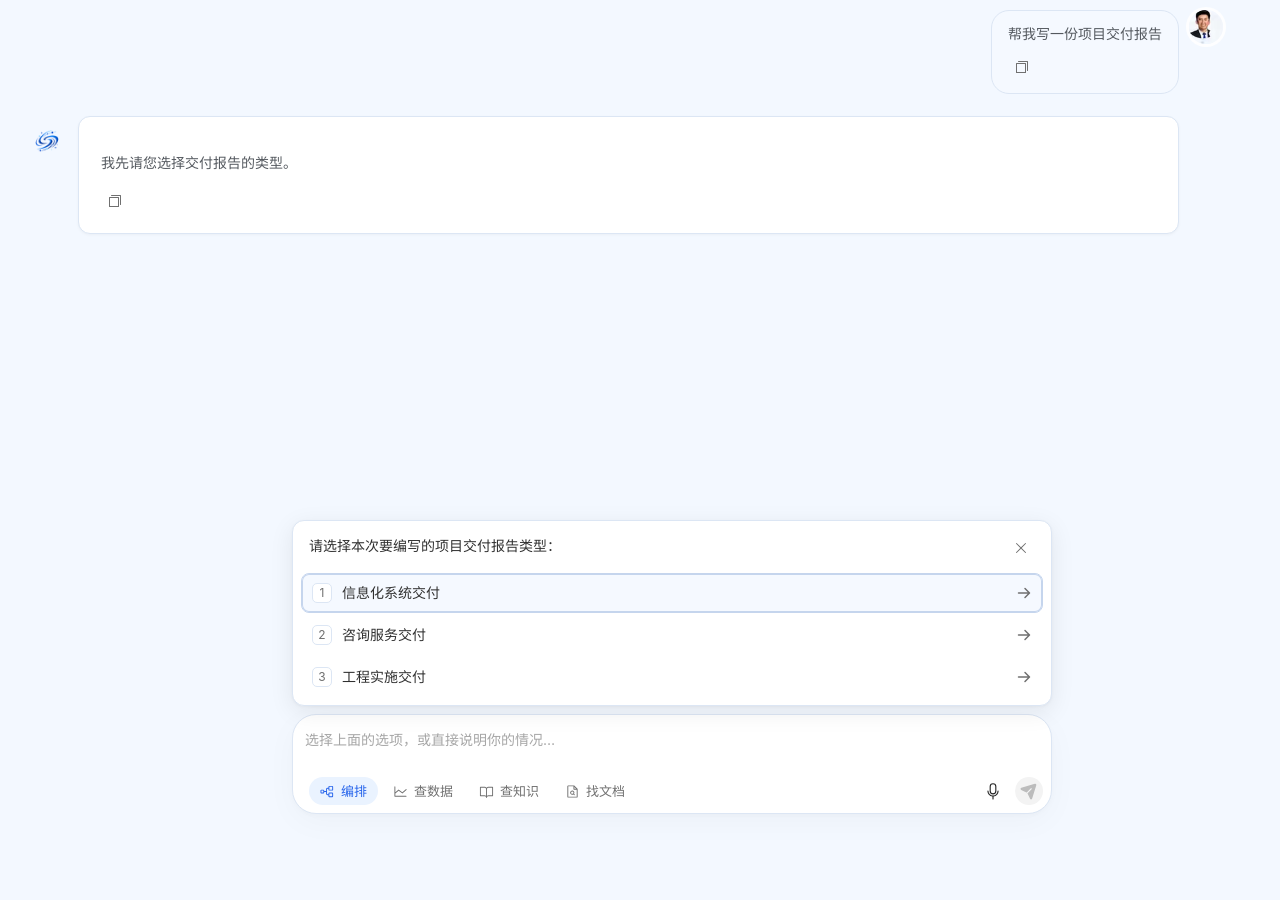
Test: AnalysisPage controlled clarification › resumes the same turn through the interaction endpoint when an option is picked
The width and height of the screenshot is (1280, 900).
Click the button "1 信息化系统交付": (391, 592) x1=301 y1=573 x2=1043 y2=613
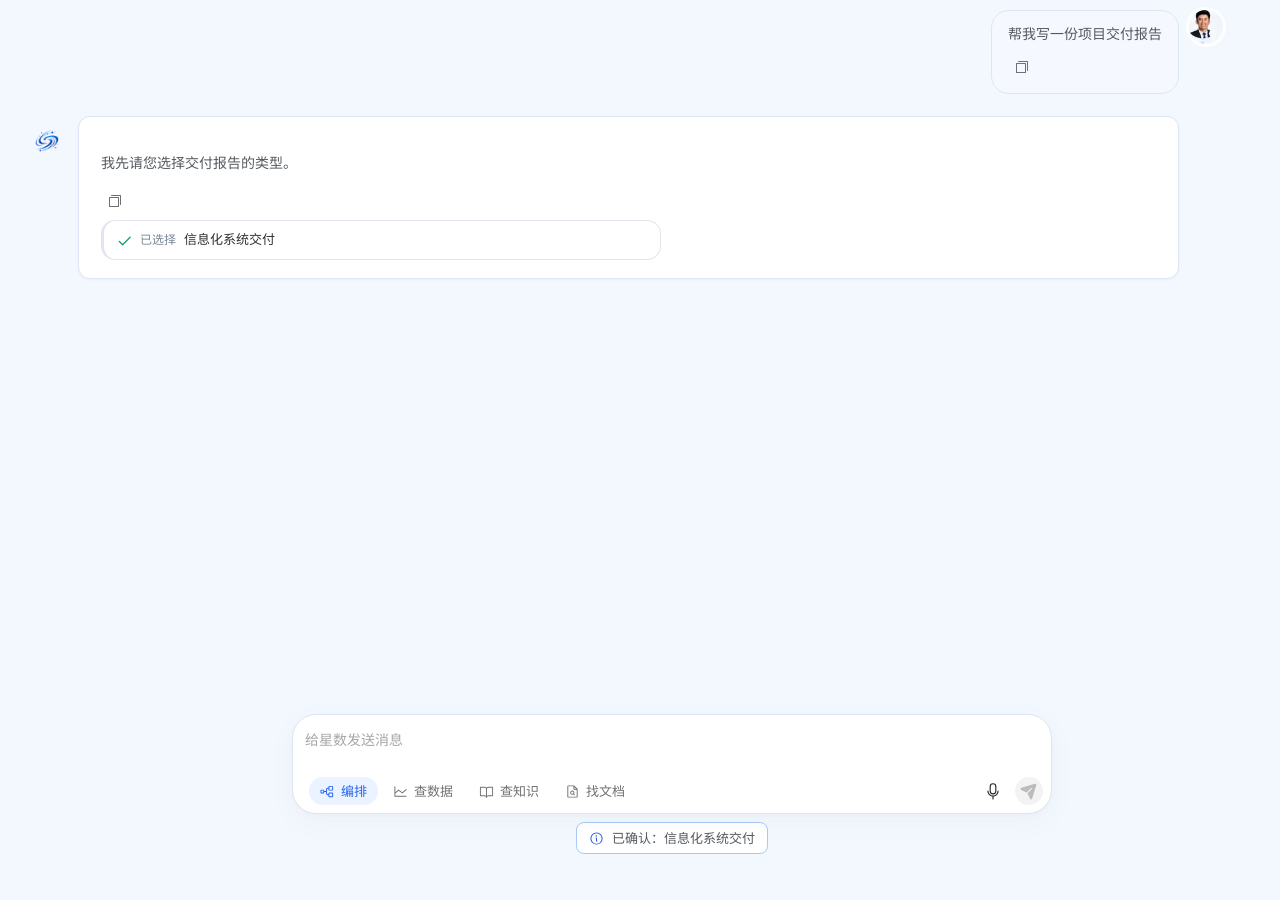
Expected: the text "已选择" is shown, x1=140 y1=231 x2=176 y2=249
Expected: the button "咨询服务交付" is gone
